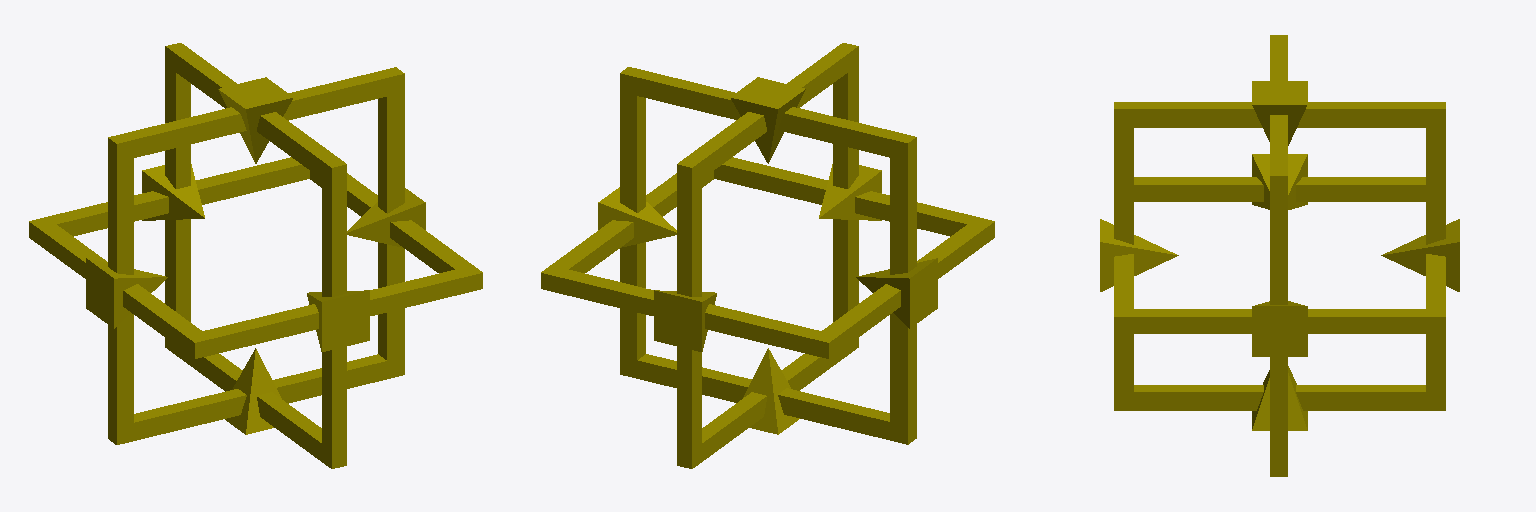
File: dock.obj
3 renders of one model, left to right at view 1: azimuth 30°, elevation 25°; view 2: azimuth 150°, elevation 25°; view 3: azimuth 270°, elevation 25°, orthographic.
Parts seen in each view (by area): view 1: dock; view 2: dock; view 3: dock.
Boxes of the visible parts, x1,y1,x2,y2 form: dock: [29, 43, 482, 468]; dock: [541, 43, 994, 468]; dock: [1100, 35, 1459, 476].
Bounding box in the file's own units: 0.9139 × 0.9131 × 0.9133.